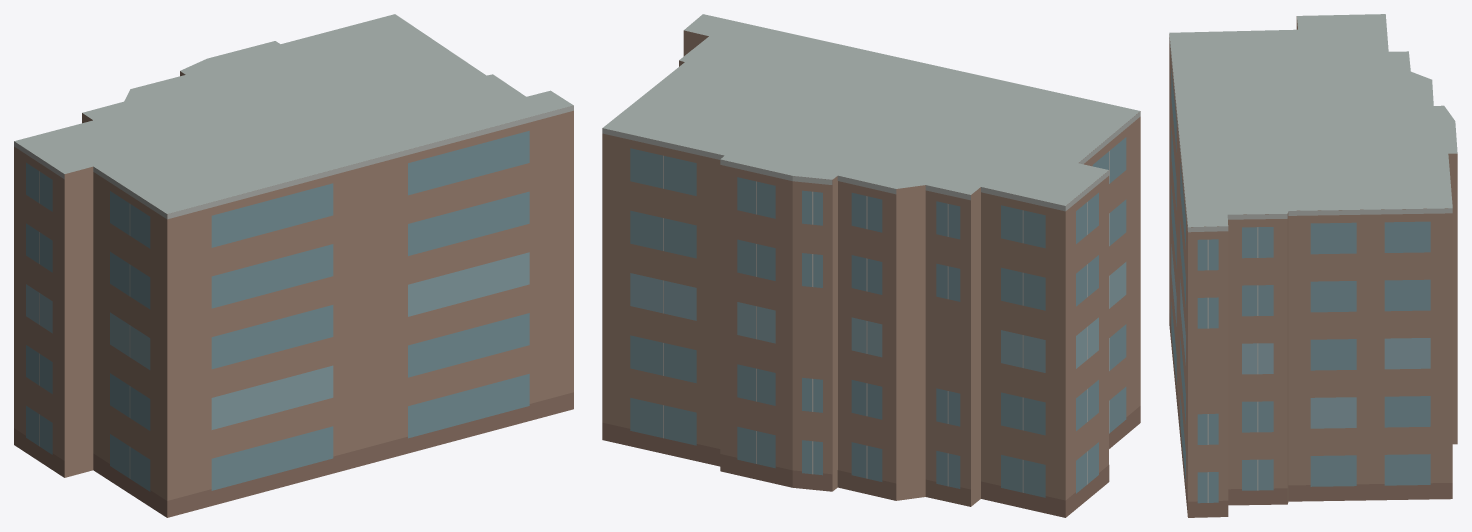
Rendered from survey-upis-32511883.glb.
3 renders of one model, left to right at view 1: azimuth 30°, elevation 25°; view 2: azimuth 150°, elevation 25°; view 3: azimuth 270°, elevation 25°, orthographic. The views are drawn at different scales.
Parts seen in each view (by area): view 1: survey-upis-32511883.tmp; view 2: survey-upis-32511883.tmp; view 3: survey-upis-32511883.tmp.
Boxes of the visible parts, left/top/right/bottom form: survey-upis-32511883.tmp: left=14, top=14, right=573, bottom=517; survey-upis-32511883.tmp: left=602, top=14, right=1140, bottom=517; survey-upis-32511883.tmp: left=1169, top=14, right=1457, bottom=517.
Size of the model in its own units: 22.19 by 14.1 by 12.68.
